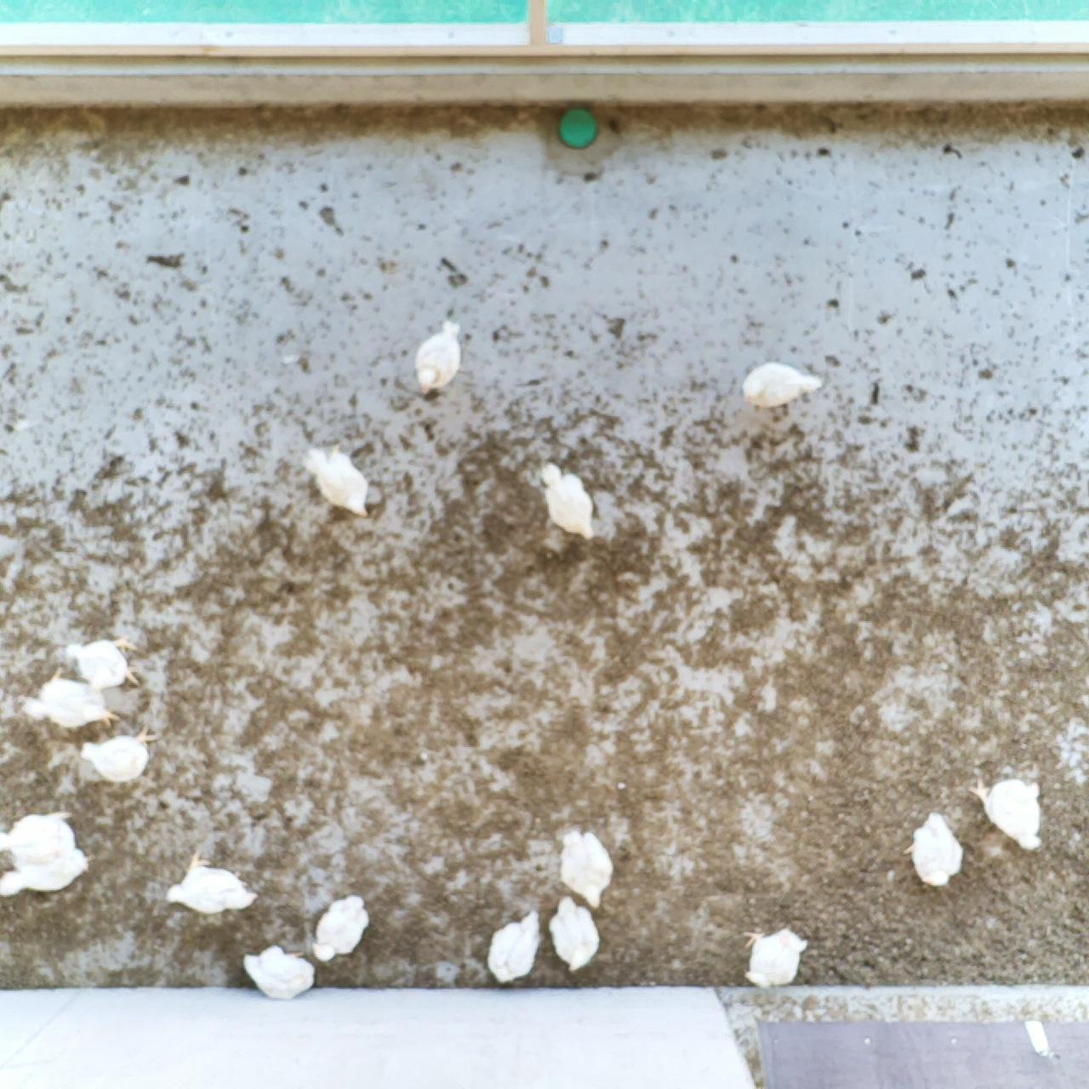chicken: (964, 771, 1052, 859), (163, 843, 264, 919), (15, 664, 124, 734), (299, 438, 375, 521), (533, 455, 600, 547), (900, 807, 968, 893), (552, 821, 616, 909), (80, 724, 165, 789), (238, 936, 319, 1004), (0, 847, 100, 901), (737, 921, 812, 992), (484, 906, 547, 988), (308, 889, 375, 966), (0, 805, 79, 870), (62, 631, 151, 688), (409, 315, 469, 398), (738, 360, 826, 415), (547, 895, 603, 976)
